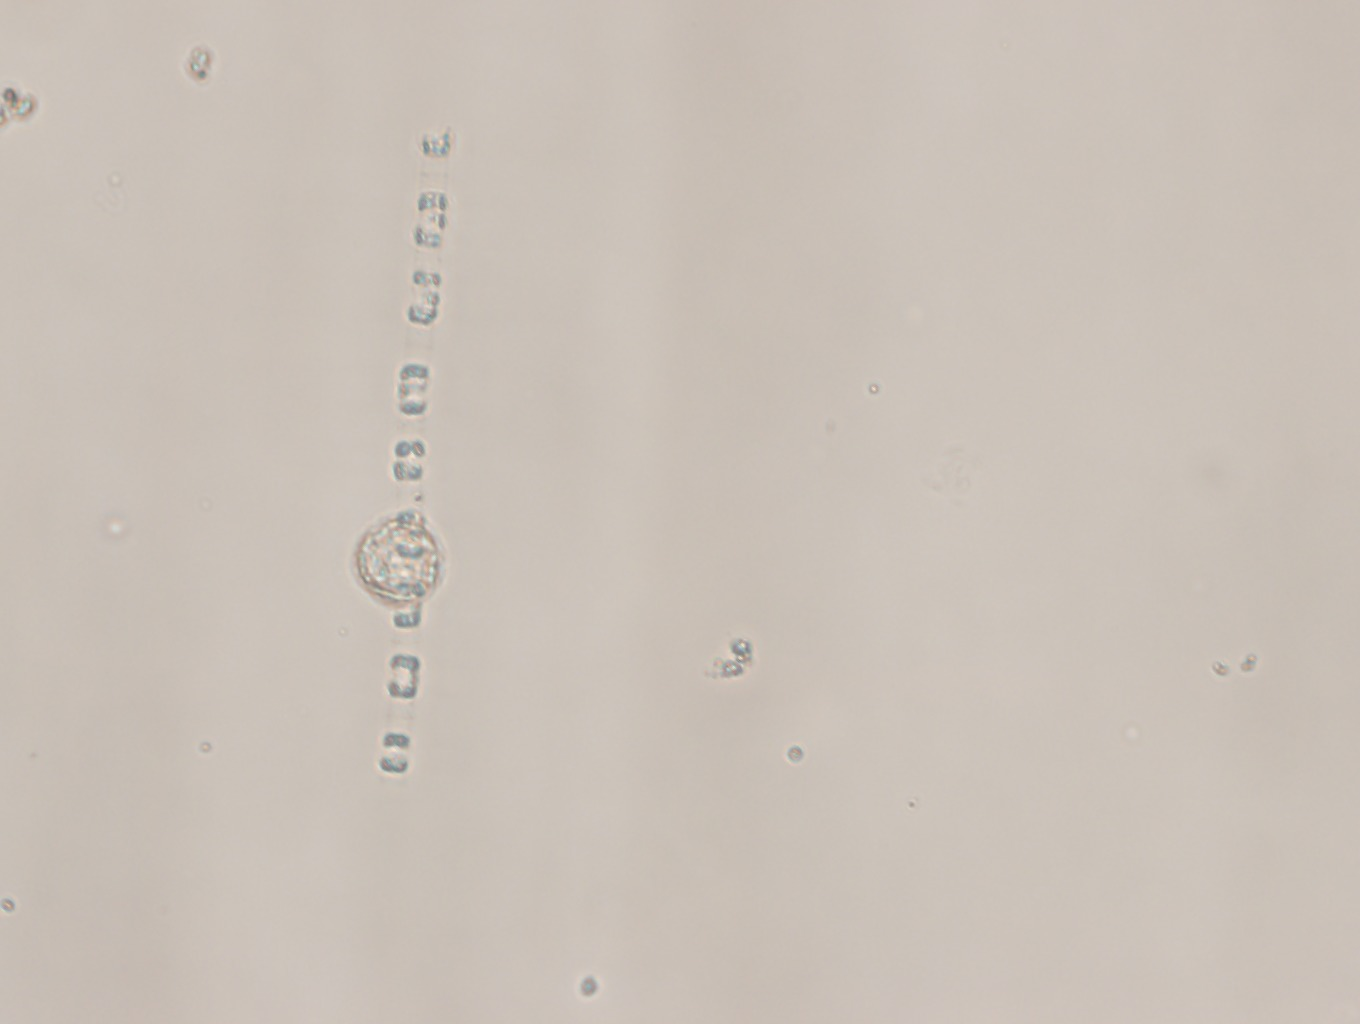skeletonema: (380, 120, 452, 776)
